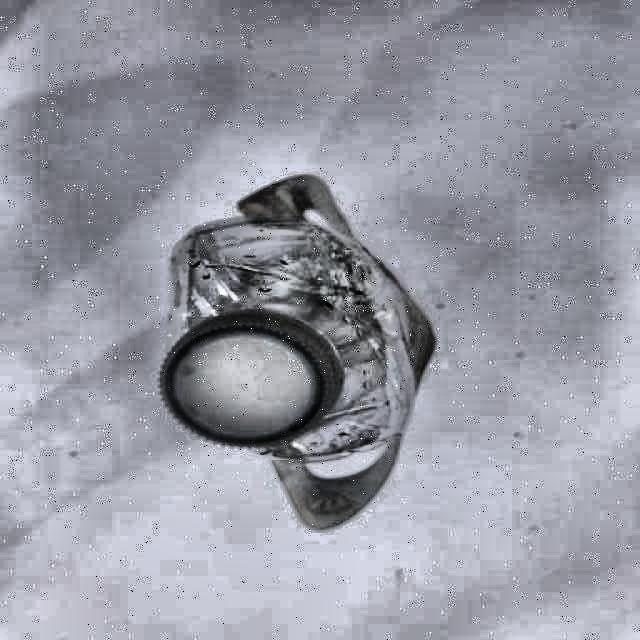plastic: (161, 175, 435, 529)
